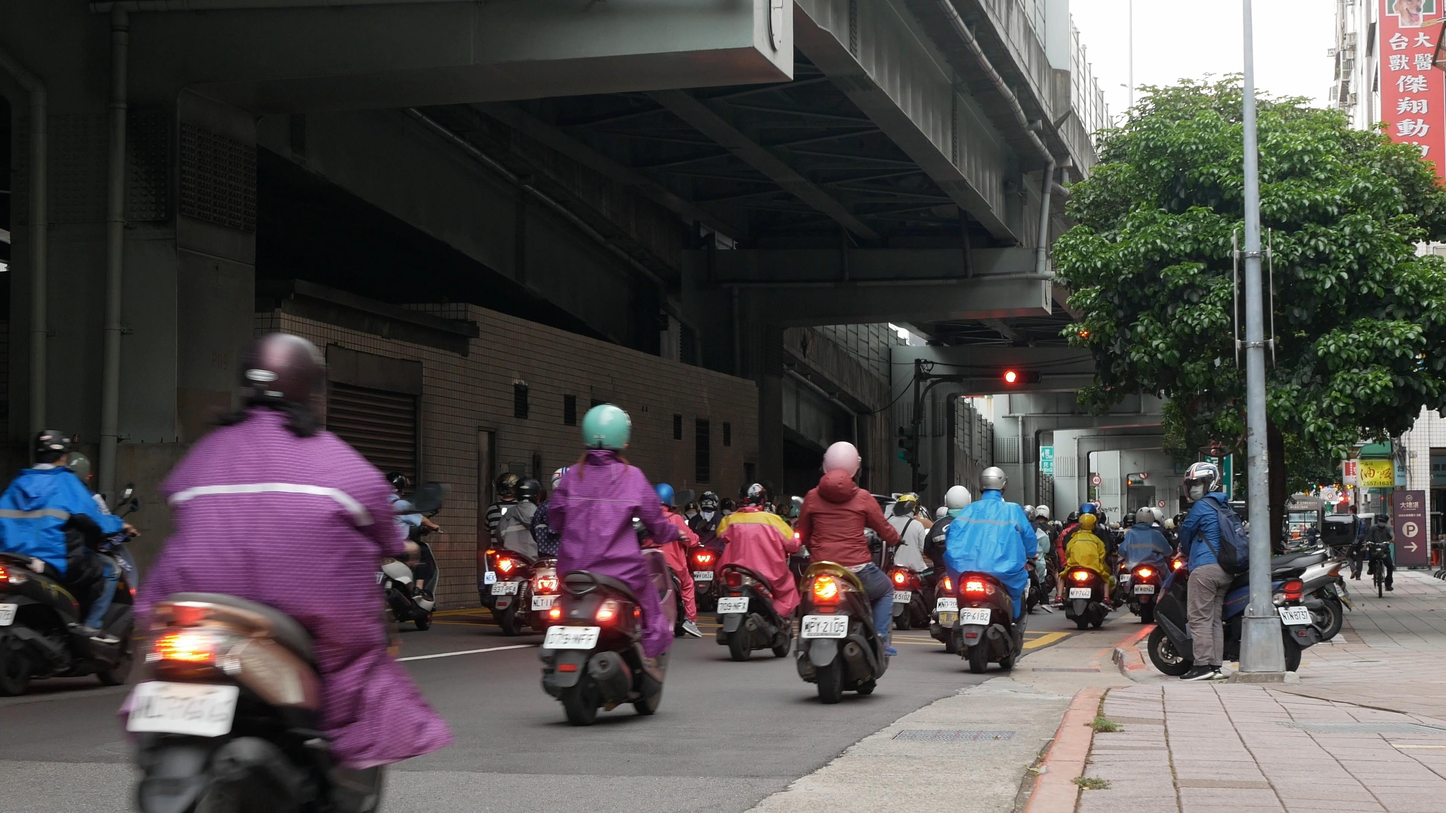bicyclist: (1362, 514, 1396, 599)
driver: (115, 332, 454, 813), (541, 404, 694, 726), (0, 429, 141, 696), (792, 441, 917, 704), (941, 466, 1037, 674), (716, 483, 798, 662), (376, 471, 444, 631), (490, 476, 547, 636), (1054, 501, 1118, 630), (1120, 507, 1175, 624), (688, 490, 730, 613)
helmet: (234, 333, 326, 417), (581, 403, 632, 450), (1183, 461, 1223, 503), (822, 441, 862, 480), (33, 430, 74, 463), (69, 452, 94, 485), (979, 467, 1008, 495), (738, 483, 768, 507), (514, 477, 540, 503), (944, 485, 971, 509), (386, 472, 410, 497), (496, 472, 520, 497), (654, 483, 675, 509), (898, 494, 917, 520), (903, 492, 921, 516), (699, 490, 719, 511), (1135, 507, 1154, 526), (1078, 513, 1098, 531), (1021, 505, 1038, 522), (1149, 507, 1163, 526), (1079, 502, 1097, 516), (1036, 505, 1050, 521), (720, 498, 735, 512), (1173, 513, 1188, 527), (1067, 511, 1081, 524), (1123, 513, 1136, 525), (936, 507, 948, 520), (1164, 518, 1175, 530)
no-helmet: (1378, 514, 1389, 528), (1347, 505, 1357, 515)
